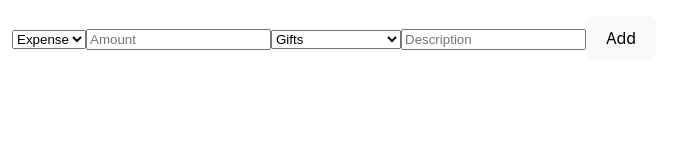
Test case: TransactionForm › submits a new transaction and resets inputs
This screenshot has width=673, height=160.
Toggle to income then back to expense by value to verify control works
Select "Income" in the 1st dropdown. click: coordinates (49, 40)
box: [12,30,86,49]
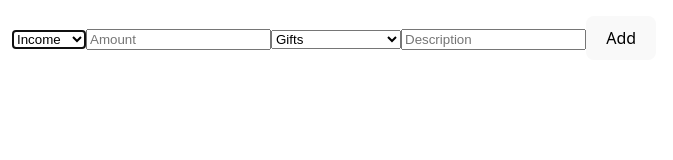
Select "Expense" in the 1st dropdown. click: coordinates (49, 40)
box: [12,30,86,49]
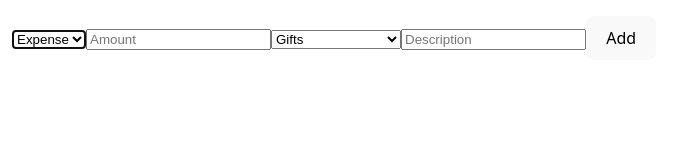
Type "123" into the number field with placeholder "Amount". click: coordinates (178, 40)
box: [86,29,271,50]
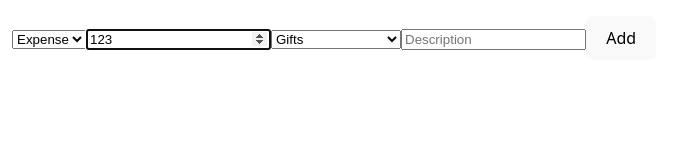
Select "Decorations" in the 2nd dropdown showing "Gifts". click: coordinates (336, 40)
box: [271,30,401,49]
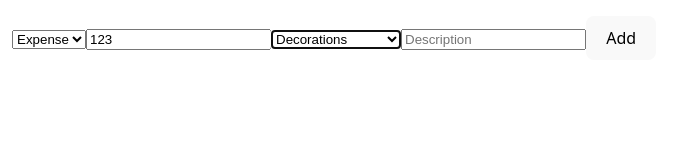
Type "Lights" into the field with placeholder "Description". click: coordinates (494, 40)
box: [401,29,586,50]
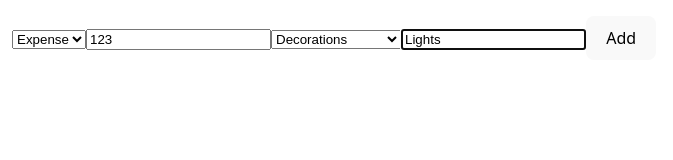
Click the button "Add". click: coordinates (621, 38)
box: [586,16,656,60]
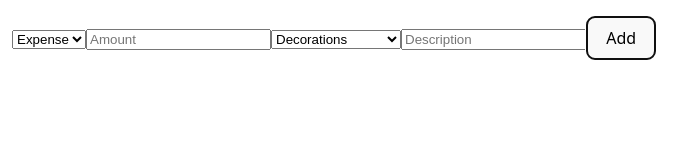
Now the number field with placeholder "Amount" is not empty, box [86,29,271,50]
Now the field with placeholder "Description" is empty, box [401,29,586,50]
